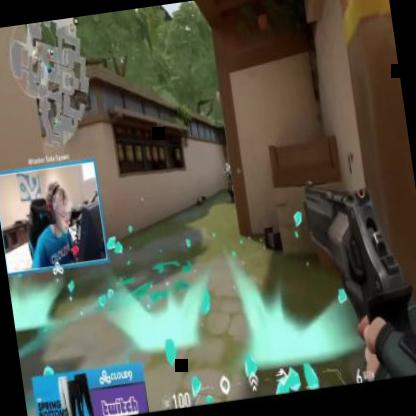enemy: (223, 158, 237, 202)
enemy_head: (224, 162, 228, 167)
